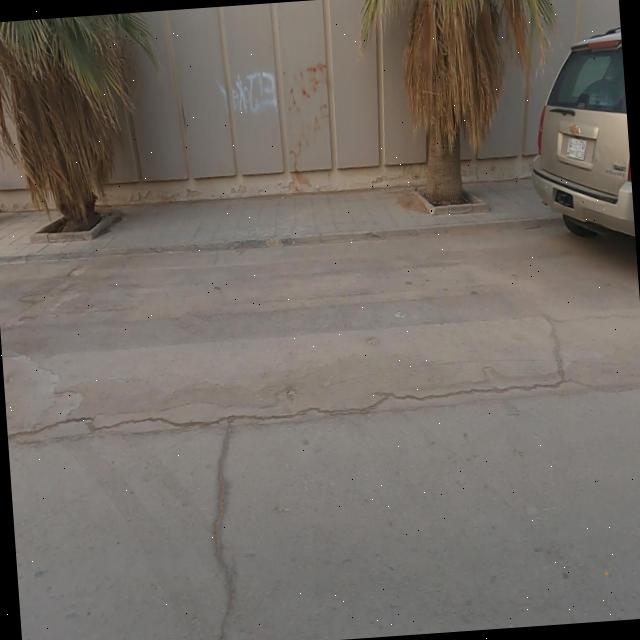Graffiti: (284, 63, 335, 170), (219, 73, 278, 119)
